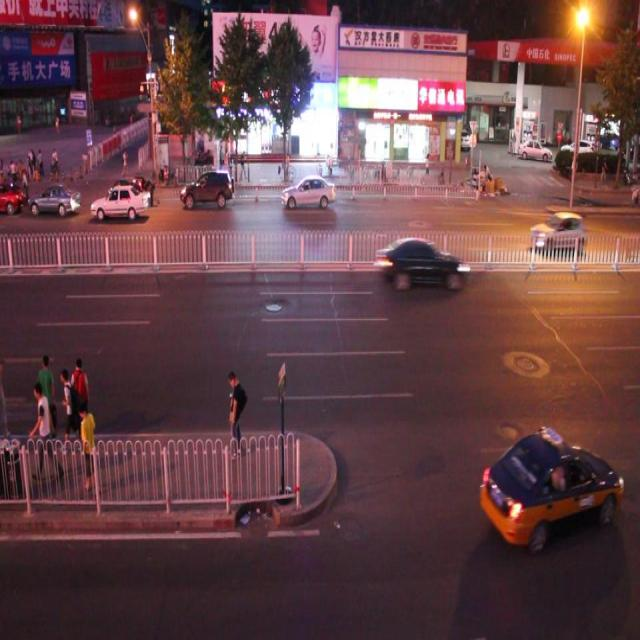car: (481, 428, 623, 550), (374, 234, 469, 286), (179, 166, 234, 210), (281, 172, 336, 214), (529, 210, 586, 250), (88, 184, 149, 220), (28, 182, 82, 220), (101, 180, 145, 223)
